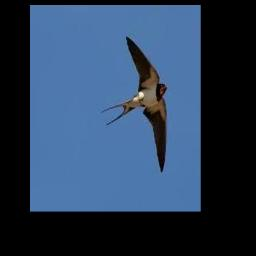Swallow: (101, 36, 169, 173)
